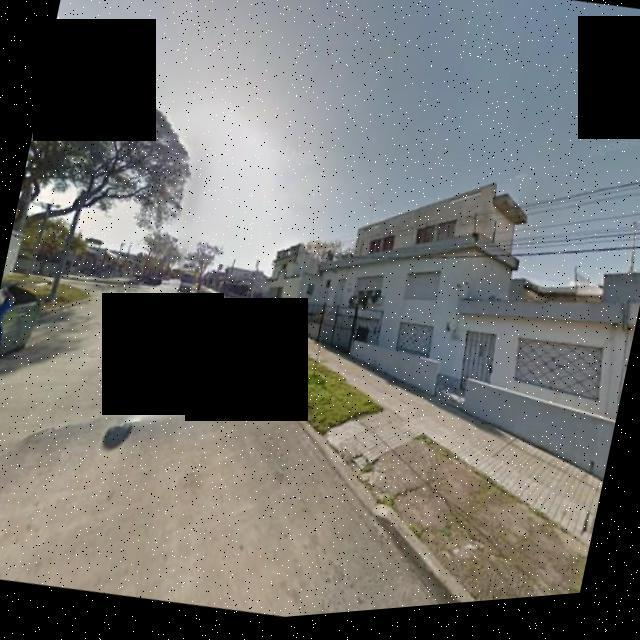bin: (0, 262, 57, 403)
